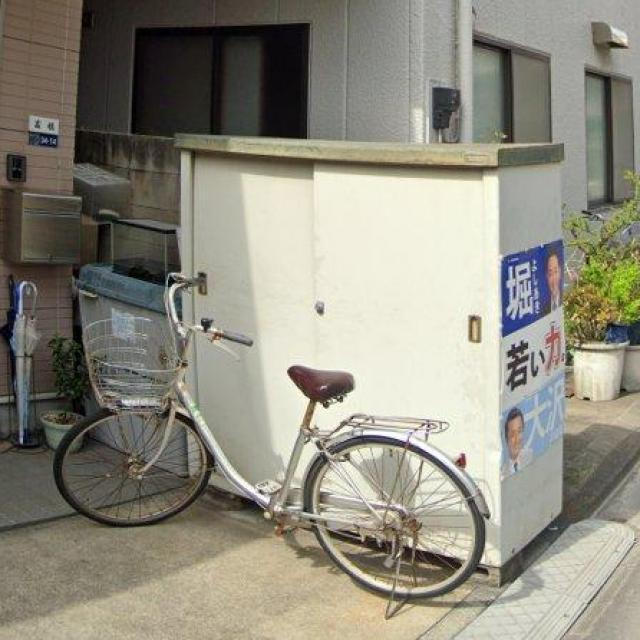bicycle: (54, 277, 492, 602)
